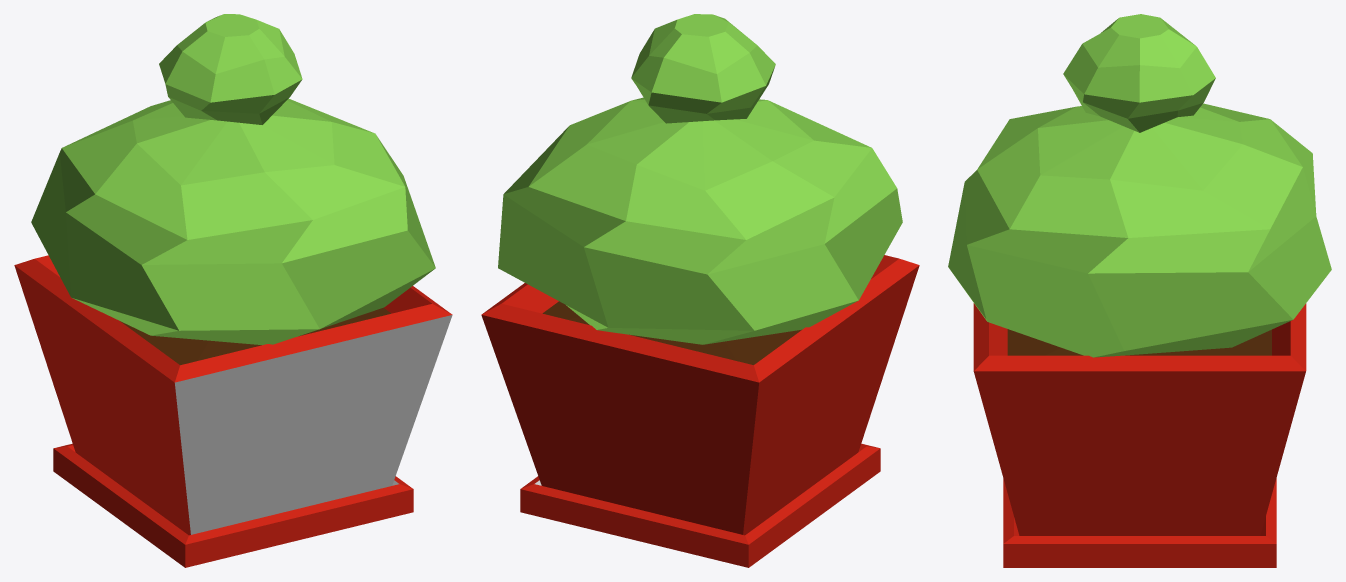
Rendered from tinyplant.fbx.
3 views of the same model, side by side, from view 1: azimuth 30°, elevation 25°; view 2: azimuth 150°, elevation 25°; view 3: azimuth 270°, elevation 25° (orthographic). The views are drawn at different scales.
Parts seen in each view (by area): view 1: Cube; view 2: Cube; view 3: Cube.
Boxes of the visible parts, x1,y1,x2,y2 form: Cube: (14,14,452,567); Cube: (481,14,919,567); Cube: (948,14,1331,567).
Size of the model in its own units: 19.34 by 26.87 by 19.34.
